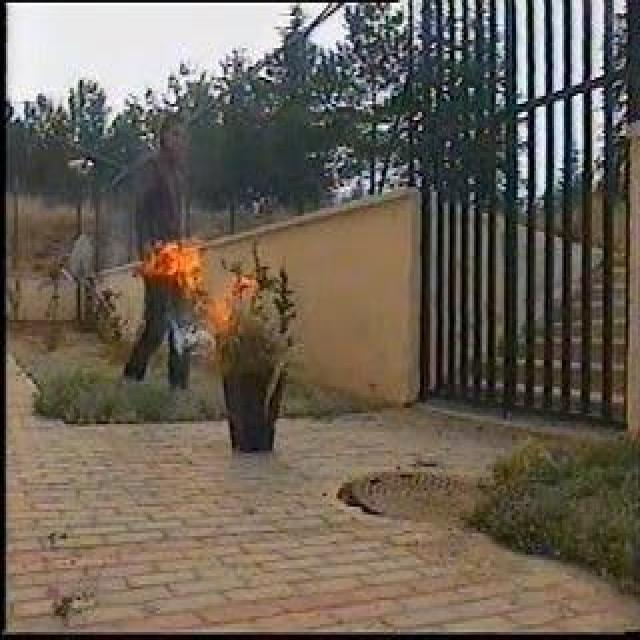fire: (133, 238, 215, 294)
smoke: (164, 310, 212, 350)
